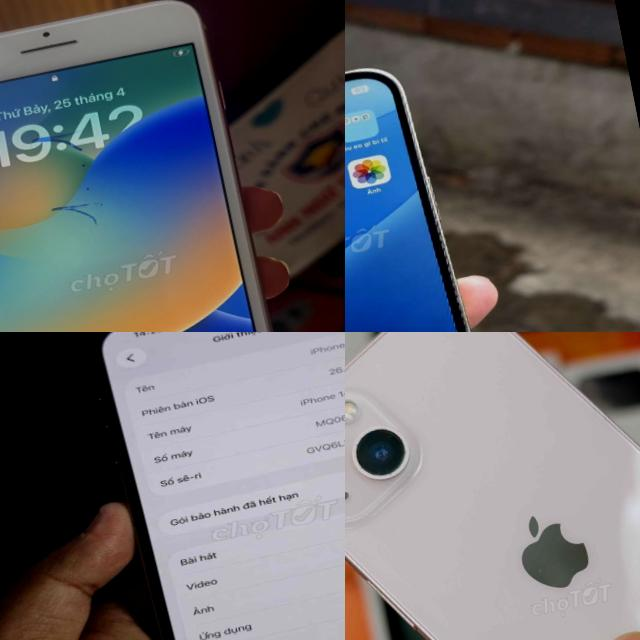gen_12_13: (345, 332, 640, 640), (345, 52, 528, 332)
gen_14: (64, 332, 345, 640)
gen_7_8: (0, 0, 326, 332)
